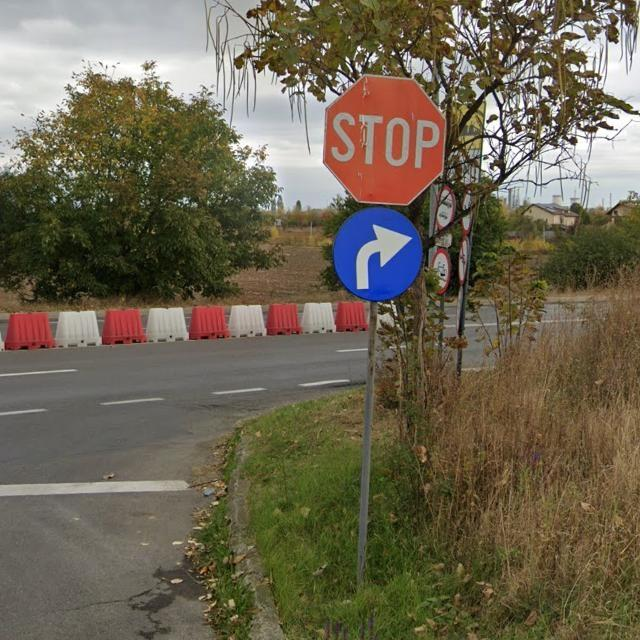prio_stop: (325, 72, 444, 207)
